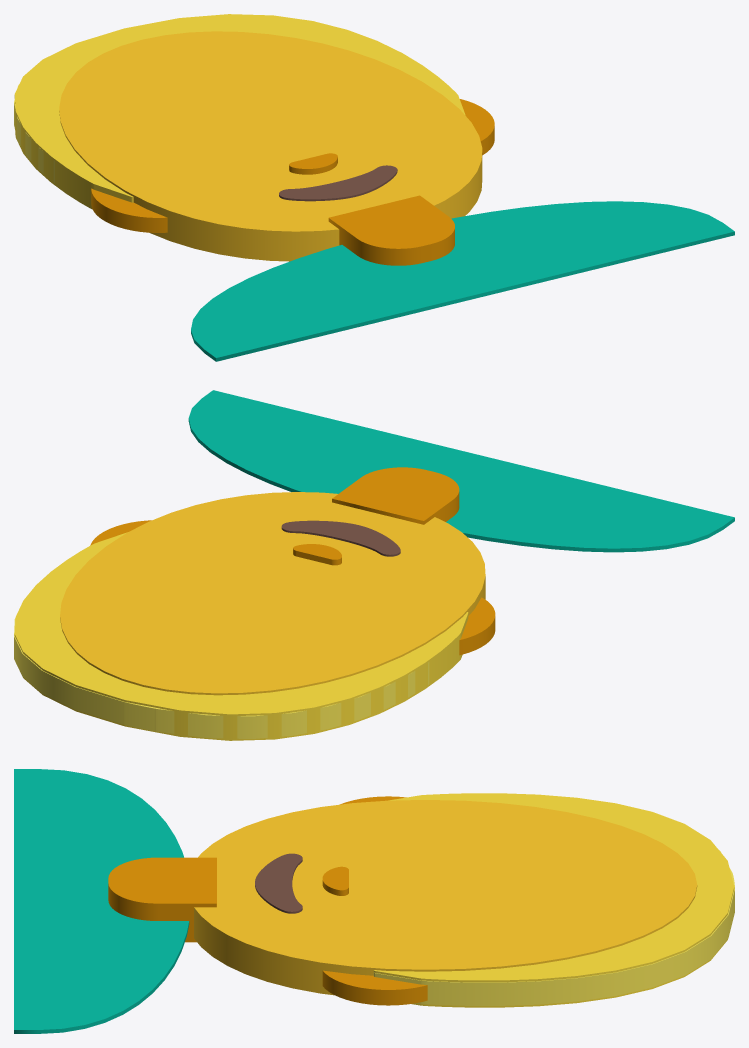
The model's file is emoji_u1f471_200d_2642.glb.
3 views of the same model, one above another, from view 1: azimuth 30°, elevation 25°; view 2: azimuth 150°, elevation 25°; view 3: azimuth 270°, elevation 25° (orthographic). The views are drawn at different scales.
Visible parts, largest first — view 1: emoji_u1f471_200d_2642; view 2: emoji_u1f471_200d_2642; view 3: emoji_u1f471_200d_2642.
Boxes of the visible parts, <box> form: emoji_u1f471_200d_2642: <box>14,14,734,361</box>; emoji_u1f471_200d_2642: <box>14,390,734,740</box>; emoji_u1f471_200d_2642: <box>14,769,734,1033</box>.
Bounding box in the file's own units: 0.0289 × 0.0022 × 0.0337.
